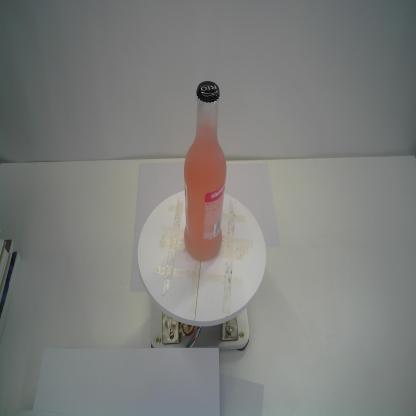Alcohol: (180, 80, 228, 262)
